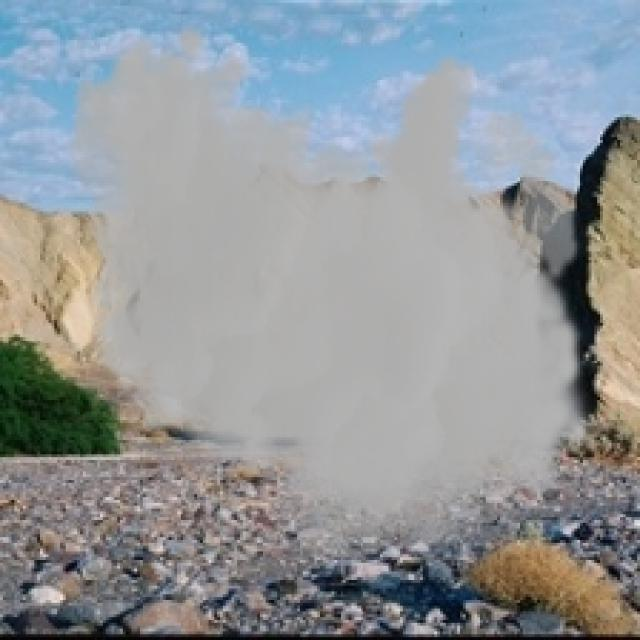smoke: (66, 17, 597, 580)
